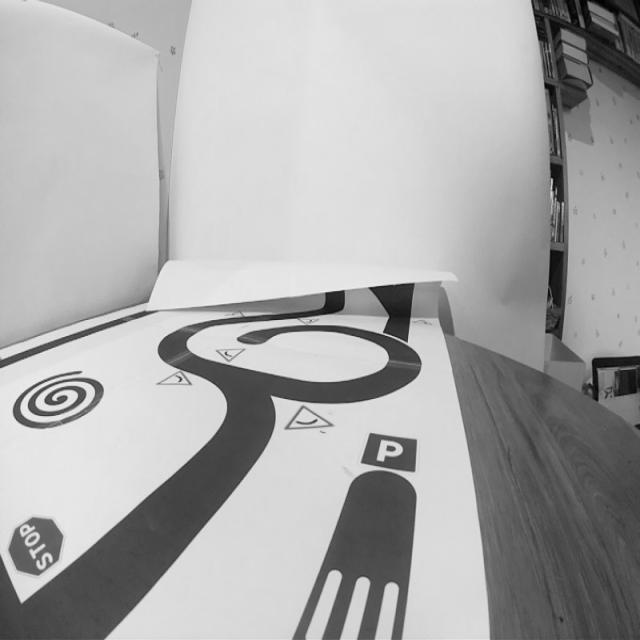Parking: (361, 425, 419, 479)
nest: (10, 361, 106, 435)
zebracross: (289, 559, 412, 640)
